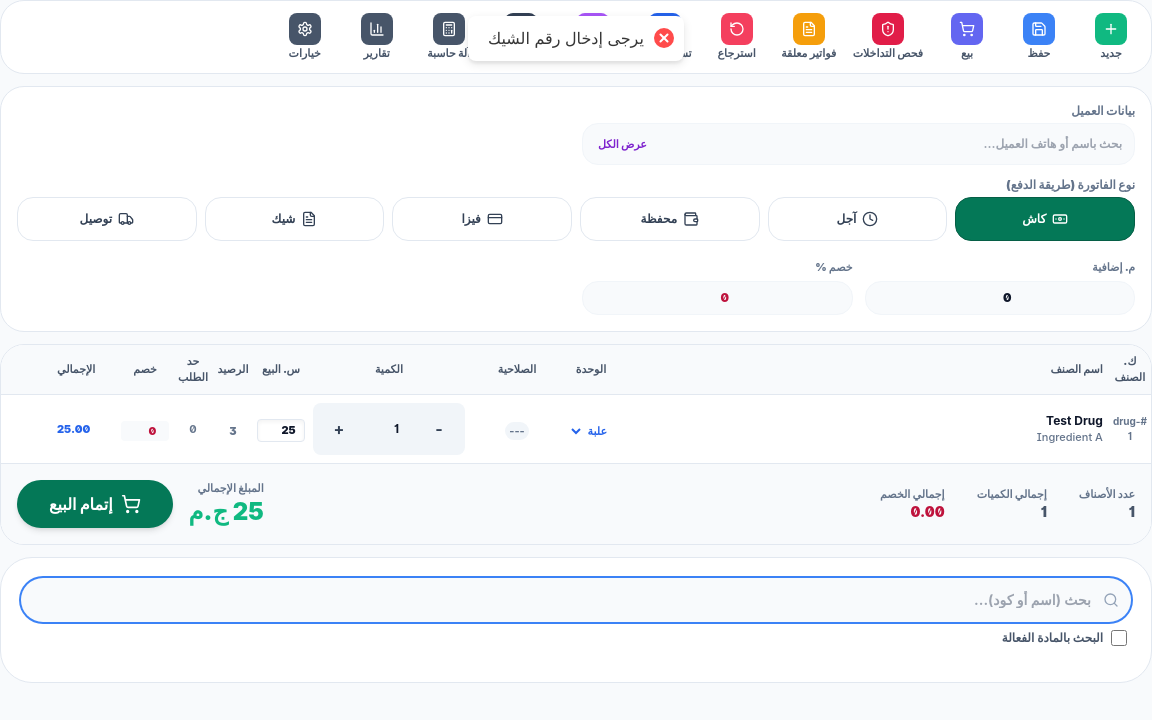
Test: rendered POS checkout flow › opens the quick sales-return surface as a named keyboard-contained dialog
Click the button "استرجاع": (737, 37) x1=705 y1=9 x2=769 y2=65
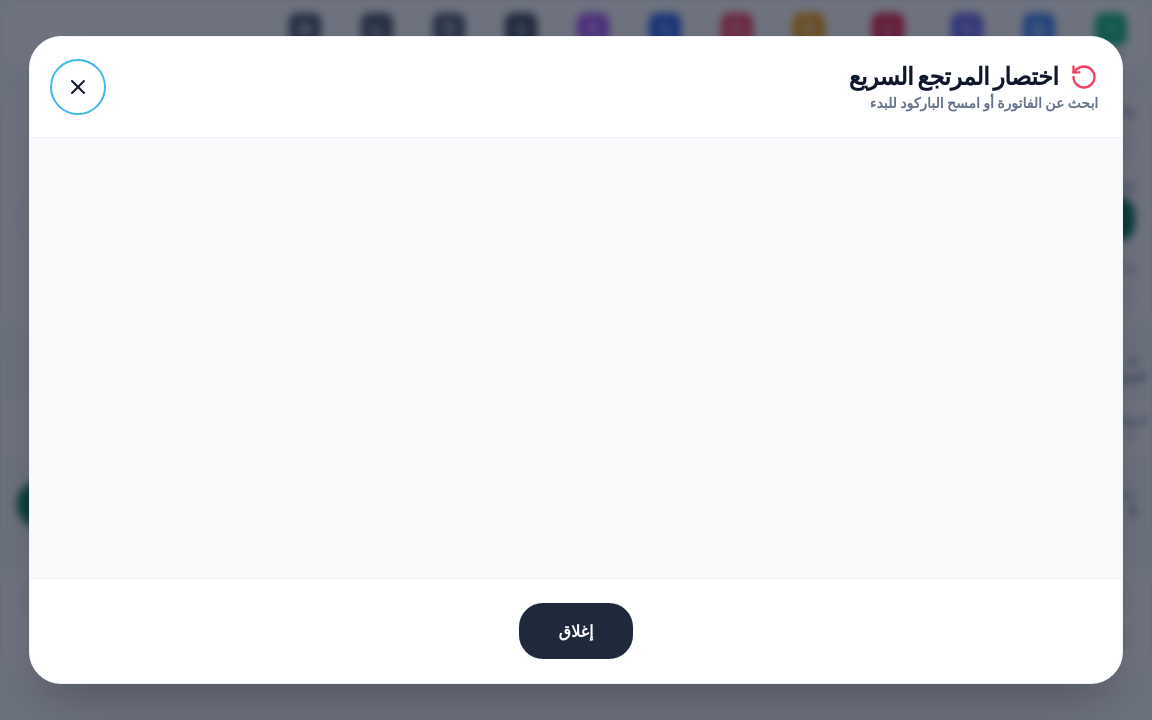
Expected: the button named "إغلاق المرتجع السريع" is shown, x1=54 y1=63 x2=102 y2=111
